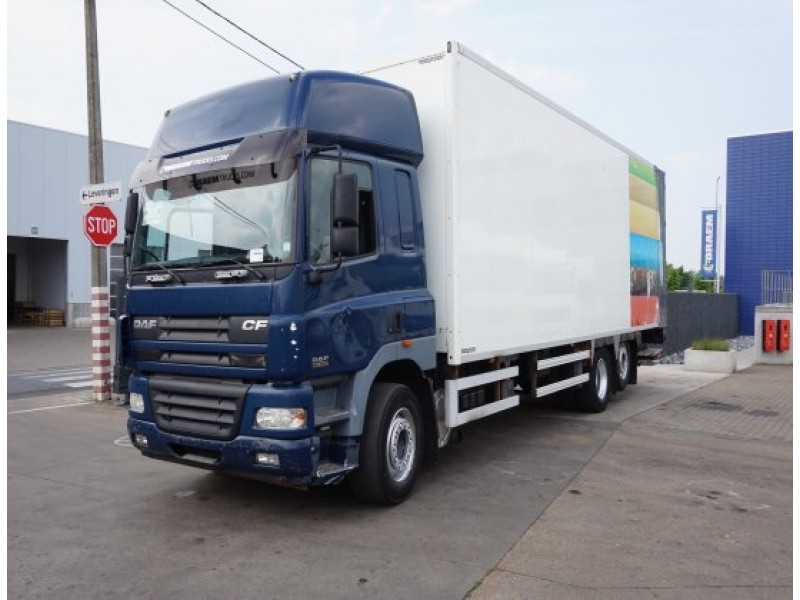truck: (112, 67, 438, 509)
